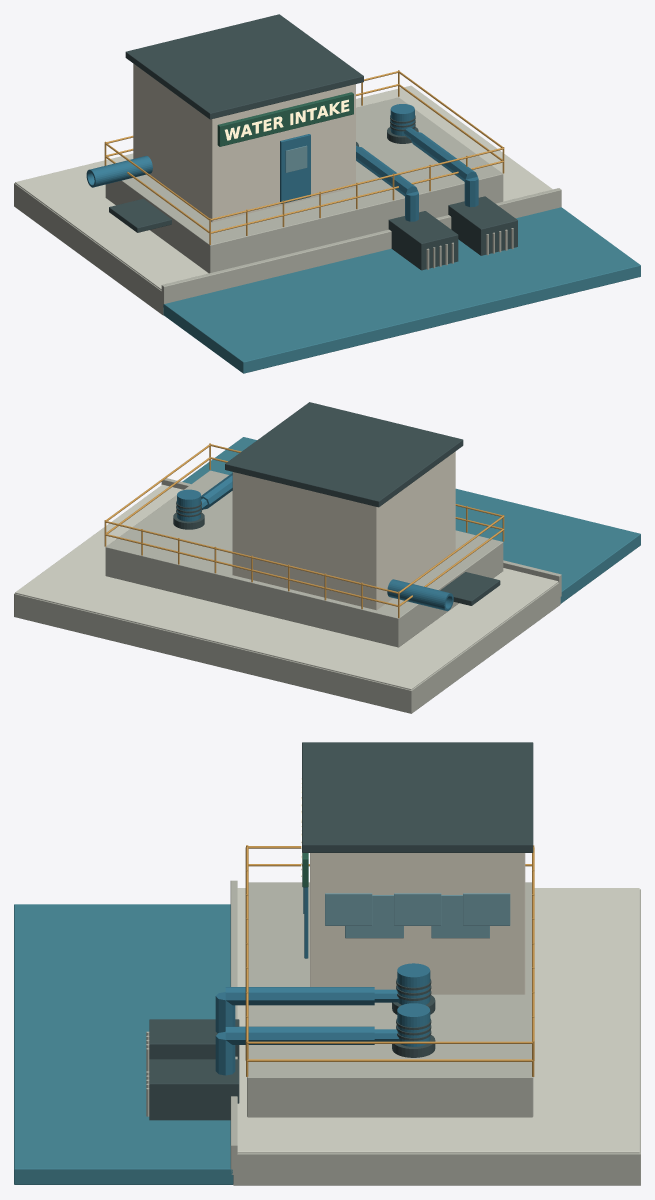
Rendered from water-intake.glb.
3 renders of one model, top to bottom at view 1: azimuth 30°, elevation 25°; view 2: azimuth 150°, elevation 25°; view 3: azimuth 270°, elevation 25°, orthographic. The views are drawn at different scales.
Parts seen in each view (by area): view 1: Context_Water, LandFoundation, PumpHouse, PumpHouseRoof, Context_LandSurface, QuayWall, Context_ShoreLand, IntakeScreenHousing, IntakeScreenHousing.001, Nameplate, StaffDoor, AccessLanding (+8 smaller); view 2: Context_LandSurface, PumpHouse, LandFoundation, PumpHouseRoof, Context_ShoreLand, Context_Water, AccessLanding, SupplyConnection, SafetyRail.002, SafetyRail.003, QuayWall, PumpMotor.001 (+1 smaller); view 3: Context_Water, Context_LandSurface, LandFoundation, PumpHouseRoof, PumpHouse, Context_ShoreLand, IntakeScreenHousing.001, IntakeScreenHousing, ServicePipe.001, ServicePipe.004, HallSideWindow, HallSideWindow.001 (+11 smaller).
Boxes of the visible parts, x1,y1,x2,y2 form: Context_Water: [163, 207, 640, 373]; LandFoundation: [105, 97, 503, 273]; PumpHouse: [133, 63, 355, 222]; PumpHouseRoof: [125, 14, 363, 119]; Context_LandSurface: [15, 85, 552, 290]; QuayWall: [161, 188, 561, 307]; Context_ShoreLand: [14, 183, 163, 315]; IntakeScreenHousing: [388, 211, 458, 270]; IntakeScreenHousing.001: [448, 196, 517, 255]; Nameplate: [217, 92, 353, 146]; StaffDoor: [280, 134, 310, 203]; AccessLanding: [109, 198, 171, 232]; Context_LandSurface: [15, 484, 558, 689]; PumpHouse: [232, 451, 455, 610]; LandFoundation: [105, 470, 503, 647]; PumpHouseRoof: [225, 402, 463, 507]; Context_ShoreLand: [14, 582, 560, 713]; Context_Water: [182, 437, 640, 603]; AccessLanding: [440, 572, 500, 605]; SupplyConnection: [387, 579, 453, 611]; SafetyRail.002: [105, 534, 398, 606]; SafetyRail.003: [105, 521, 398, 593]; QuayWall: [161, 478, 561, 596]; PumpMotor.001: [177, 489, 200, 521]; Context_Water: [14, 904, 233, 1184]; Context_LandSurface: [237, 888, 639, 1153]; LandFoundation: [247, 882, 533, 1117]; PumpHouseRoof: [302, 742, 533, 852]; PumpHouse: [310, 853, 525, 994]; Context_ShoreLand: [233, 889, 640, 1185]; IntakeScreenHousing.001: [149, 1059, 239, 1120]; IntakeScreenHousing: [149, 1019, 239, 1059]; ServicePipe.001: [225, 987, 374, 1005]; ServicePipe.004: [225, 1026, 374, 1044]; HallSideWindow: [325, 893, 372, 925]; HallSideWindow.001: [394, 893, 441, 925].
Bounding box in the file's own units: 16 × 6.49 × 16.
